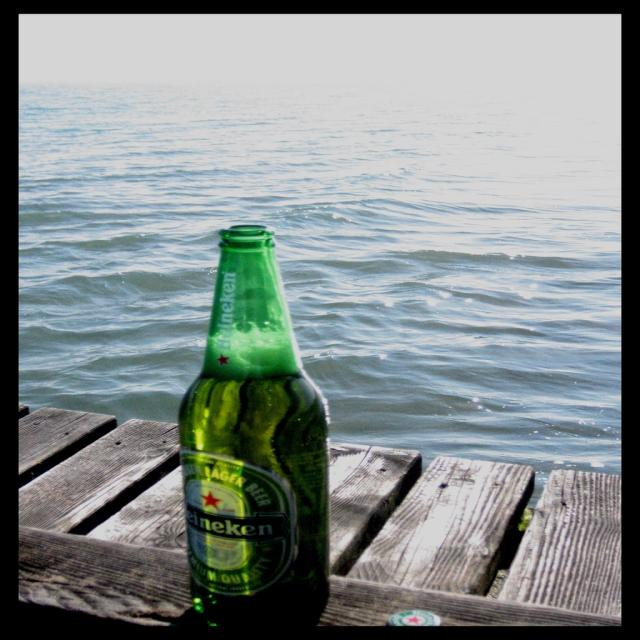heineken: (181, 452, 294, 597)
